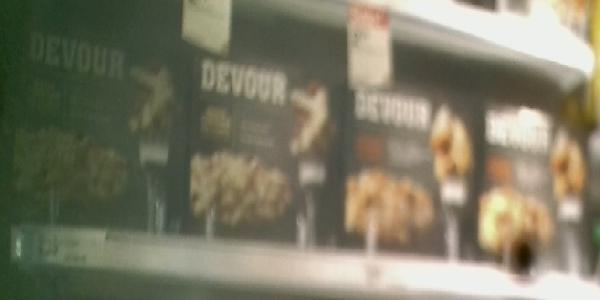pizza1: (9, 24, 179, 232), (191, 51, 339, 249), (341, 81, 478, 266), (480, 92, 593, 277)
